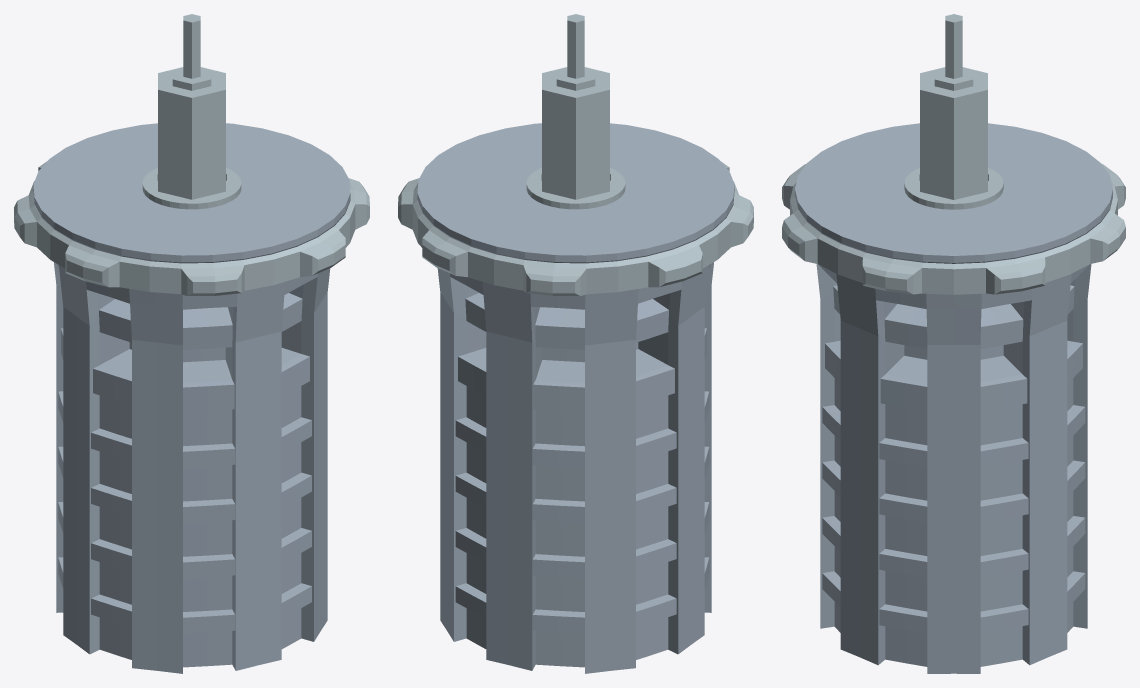
File: IntakeTower.fbx
3 renders of one model, left to right at view 1: azimuth 30°, elevation 25°; view 2: azimuth 150°, elevation 25°; view 3: azimuth 270°, elevation 25°, orthographic.
Visible parts, largest first — view 1: 柱体.010, 柱体.011; view 2: 柱体.010, 柱体.011; view 3: 柱体.010, 柱体.011.
Part boxes in pixels (x1,y1,x2,y2): 柱体.010: [33, 123, 350, 673]; 柱体.011: [14, 14, 369, 295]; 柱体.010: [417, 123, 734, 673]; 柱体.011: [398, 14, 753, 295]; 柱体.010: [795, 123, 1112, 673]; 柱体.011: [782, 14, 1125, 294].
Bounding box in the file's own units: 1357 × 1357 × 2609.
